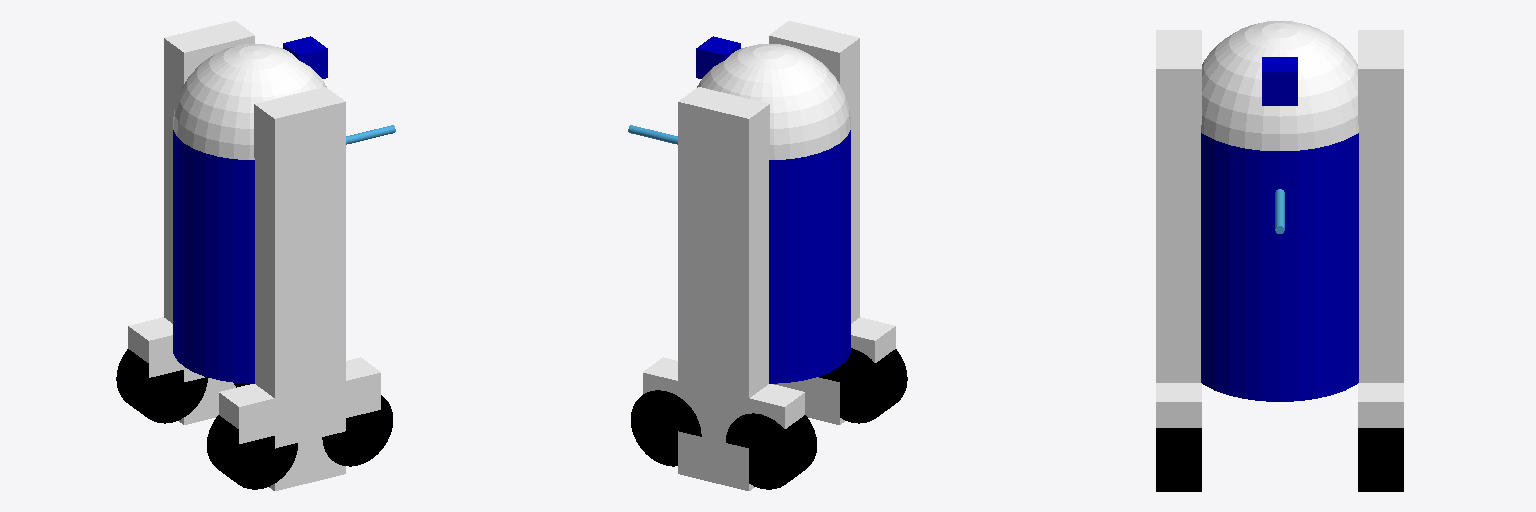
URDF robot description (moby):
<?xml version="1.0"?>
<robot name="moby">

<material name="blue">
    <color rgba="0 0 0.8 1"/>
  </material>
  <material name="black">
    <color rgba="0 0 0 1"/>
  </material>
  <material name="white">
    <color rgba="1 1 1 1"/>
  </material>

  <link name="base_link">
    <visual>
      <geometry>
        <cylinder length="0.6" radius="0.2"/>
      </geometry>
      <material name="blue"/>
    </visual>
    <collision>
      <geometry>
        <cylinder length="0.6" radius="0.2"/>
      </geometry>
    </collision>
    <inertial>
      <mass value="10"/>
      <inertia ixx="1.0" ixy="0.0" ixz="0.0" iyy="1.0" iyz="0.0" izz="1.0"/>
    </inertial>
  </link>

  <link name="right_leg">
    <visual>
      <geometry>
        <box size="1.0 0.1 0.2"/>
      </geometry>
      <origin rpy="0 1.57075 0" xyz="0 0 -0.3"/>
      <material name="white"/>
    </visual>
    <collision>
      <geometry>
        <box size="1.0 0.1 0.2"/>
      </geometry>
      <origin rpy="0 1.57075 0" xyz="0 0 -0.3"/>
    </collision>
    <inertial>
      <mass value="10"/>
      <inertia ixx="1.0" ixy="0.0" ixz="0.0" iyy="1.0" iyz="0.0" izz="1.0"/>
    </inertial>
  </link>
  <joint name="base_to_right_leg" type="fixed">
    <parent link="base_link"/>
    <child link="right_leg"/>
    <origin xyz="0 -0.22 0.25"/>
  </joint>

  <link name="right_base">
    <visual>
      <geometry>
        <box size="0.4 0.1 0.1"/>
      </geometry>
      <material name="white"/>
    </visual>
    <collision>
      <geometry>
        <box size="0.4 0.1 0.1"/>
      </geometry>
    </collision>
    <inertial>
      <mass value="10"/>
      <inertia ixx="1.0" ixy="0.0" ixz="0.0" iyy="1.0" iyz="0.0" izz="1.0"/>
    </inertial>
  </link>

  <joint name="right_base_joint" type="fixed">
    <parent link="right_leg"/>
    <child link="right_base"/>
    <origin xyz="0 0 -0.6"/>
  </joint>

  <link name="right_front_wheel">
    <visual>
      <origin rpy="1.57075 0 0" xyz="0 0 0"/>
      <geometry>
        <cylinder length="0.1" radius="0.1"/>
      </geometry>
      <material name="black"/>
    </visual>
    <collision>
      <origin rpy="1.57075 0 0" xyz="0 0 0"/>
      <geometry>
        <cylinder length="0.1" radius="0.1"/>
      </geometry>
    </collision>
    <inertial>
      <mass value="1"/>
      <inertia ixx="1.0" ixy="0.0" ixz="0.0" iyy="1.0" iyz="0.0" izz="1.0"/>
    </inertial>
  </link>

  <joint name="right_front_wheel_joint" type="continuous">
    <axis rpy="0 0 0" xyz="0 1 0"/>
    <parent link="right_base"/>
    <child link="right_front_wheel"/>
    <origin rpy="0 0 0" xyz="0.133333333333 0 -0.085"/>
  </joint>

  <link name="right_back_wheel">
    <visual>
      <origin rpy="1.57075 0 0" xyz="0 0 0"/>
      <geometry>
        <cylinder length="0.1" radius="0.1"/>
      </geometry>
      <material name="black"/>
    </visual>
    <collision>
      <origin rpy="1.57075 0 0" xyz="0 0 0"/>
      <geometry>
        <cylinder length="0.1" radius="0.01"/>
      </geometry>
    </collision>
    <inertial>
      <mass value="1"/>
      <inertia ixx="1.0" ixy="0.0" ixz="0.0" iyy="1.0" iyz="0.0" izz="1.0"/>
    </inertial>
  </link>

  <joint name="right_back_wheel_joint" type="continuous">
    <axis rpy="0 0 0" xyz="0 1 0"/>
    <parent link="right_base"/>
    <child link="right_back_wheel"/>
    <origin rpy="0 0 0" xyz="-0.133333333333 0 -0.085"/>
  </joint>

  <link name="left_leg">
    <visual>
      <geometry>
        <box size="1.0 0.1 0.2"/>
      </geometry>
      <origin rpy="0 1.57075 0" xyz="0 0 -0.3"/>
      <material name="white"/>
    </visual>
    <collision>
      <geometry>
        <box size="1.0 0.1 0.2"/>
      </geometry>
      <origin rpy="0 1.57075 0" xyz="0 0 -0.3"/>
    </collision>
    <inertial>
      <mass value="10"/>
      <inertia ixx="1.0" ixy="0.0" ixz="0.0" iyy="1.0" iyz="0.0" izz="1.0"/>
    </inertial>
  </link>

  <joint name="base_to_left_leg" type="fixed">
    <parent link="base_link"/>
    <child link="left_leg"/>
    <origin xyz="0 0.22 0.25"/>
  </joint>

  <link name="left_base">
    <visual>
      <geometry>
        <box size="0.4 0.1 0.1"/>
      </geometry>
      <material name="white"/>
    </visual>
    <collision>
      <geometry>
        <box size="0.4 0.1 0.1"/>
      </geometry>
    </collision>
    <inertial>
      <mass value="10"/>
      <inertia ixx="1.0" ixy="0.0" ixz="0.0" iyy="1.0" iyz="0.0" izz="1.0"/>
    </inertial>
  </link>

  <joint name="left_base_joint" type="fixed">
    <parent link="left_leg"/>
    <child link="left_base"/>
    <origin xyz="0 0 -0.6"/>
  </joint>

  <link name="left_front_wheel">
    <visual>
      <origin rpy="1.57075 0 0" xyz="0 0 0"/>
      <geometry>
        <cylinder length="0.1" radius="0.1"/>
      </geometry>
      <material name="black"/>
    </visual>
    <collision>
      <origin rpy="1.57075 0 0" xyz="0 0 0"/>
      <geometry>
        <cylinder length="0.1" radius="0.1"/>
      </geometry>
    </collision>
    <inertial>
      <mass value="1"/>
      <inertia ixx="1.0" ixy="0.0" ixz="0.0" iyy="1.0" iyz="0.0" izz="1.0"/>
    </inertial>
  </link>

  <joint name="left_front_wheel_joint" type="continuous">
    <axis rpy="0 0 0" xyz="0 1 0"/>
    <parent link="left_base"/>
    <child link="left_front_wheel"/>
    <origin rpy="0 0 0" xyz="0.133333333333 0 -0.085"/>
  </joint>

  <link name="left_back_wheel">
    <visual>
      <origin rpy="1.57075 0 0" xyz="0 0 0"/>
      <geometry>
        <cylinder length="0.1" radius="0.1"/>
      </geometry>
      <material name="black"/>
    </visual>
    <collision>
      <origin rpy="1.57075 0 0" xyz="0 0 0"/>
      <geometry>
        <cylinder length="0.1" radius="0.1"/>
      </geometry>
    </collision>
    <inertial>
      <mass value="1"/>
      <inertia ixx="1.0" ixy="0.0" ixz="0.0" iyy="1.0" iyz="0.0" izz="1.0"/>
    </inertial>
  </link>

  <joint name="left_back_wheel_joint" type="continuous">
    <axis rpy="0 0 0" xyz="0 1 0"/>
    <parent link="left_base"/>
    <child link="left_back_wheel"/>
    <origin rpy="0 0 0" xyz="-0.133333333333 0 -0.085"/>
  </joint>

  <joint name="gripper_extension" type="prismatic">
    <parent link="base_link"/>
    <child link="gripper_pole"/>
    <limit effort="1000.0" lower="-0.38" upper="0" velocity="0.5"/>
    <origin rpy="0 0 0" xyz="0.19 0 0.2"/>
  </joint>

  <link name="gripper_pole">
    <visual>
      <geometry>
        <cylinder length="0.2" radius="0.01"/>
      </geometry>
      <origin rpy="0 1.57075 0 " xyz="0.1 0 0"/>
    </visual>
    <collision>
      <geometry>
        <cylinder length="0.2" radius="0.01"/>
      </geometry>
      <origin rpy="0 1.57075 0 " xyz="0.1 0 0"/>
    </collision>
    <inertial>
      <mass value="0.05"/>
      <inertia ixx="1.0" ixy="0.0" ixz="0.0" iyy="1.0" iyz="0.0" izz="1.0"/>
    </inertial>
  </link>

  <joint name="left_gripper_joint" type="revolute">
    <axis xyz="0 0 1"/>
    <limit effort="1000.0" lower="0.0" upper="0.548" velocity="0.5"/>
    <origin rpy="0 0 0" xyz="0.2 0.01 0"/>
    <parent link="gripper_pole"/>
    <child link="left_gripper"/>
  </joint>

  <link name="left_gripper">
    <visual>
      <origin rpy="0.0 0 0" xyz="0 0 0"/>
      <geometry>
        <mesh filename="package://urdf_tutorial/meshes/l_finger.dae"/>
      </geometry>
    </visual>
    <collision>
      <geometry>
        <mesh filename="package://urdf_tutorial/meshes/l_finger.dae"/>
      </geometry>
      <origin rpy="0.0 0 0" xyz="0 0 0"/>
    </collision>
    <inertial>
      <mass value="0.05"/>
      <inertia ixx="1.0" ixy="0.0" ixz="0.0" iyy="1.0" iyz="0.0" izz="1.0"/>
    </inertial>
  </link>

  <joint name="left_tip_joint" type="fixed">
    <parent link="left_gripper"/>
    <child link="left_tip"/>
  </joint>

  <link name="left_tip">
    <visual>
      <origin rpy="0.0 0 0" xyz="0.09137 0.00495 0"/>
      <geometry>
        <mesh filename="package://urdf_tutorial/meshes/l_finger_tip.dae"/>
      </geometry>
    </visual>
    <collision>
      <geometry>
        <mesh filename="package://urdf_tutorial/meshes/l_finger_tip.dae"/>
      </geometry>
      <origin rpy="0.0 0 0" xyz="0.09137 0.00495 0"/>
    </collision>
    <inertial>
      <mass value="0.05"/>
      <inertia ixx="1.0" ixy="0.0" ixz="0.0" iyy="1.0" iyz="0.0" izz="1.0"/>
    </inertial>
  </link>

  <joint name="right_gripper_joint" type="revolute">
    <axis xyz="0 0 -1"/>
    <limit effort="1000.0" lower="0.0" upper="0.548" velocity="0.5"/>
    <origin rpy="0 0 0" xyz="0.2 -0.01 0"/>
    <parent link="gripper_pole"/>
    <child link="right_gripper"/>
  </joint>

  <link name="right_gripper">
    <visual>
      <origin rpy="-3.1415 0 0" xyz="0 0 0"/>
      <geometry>
        <mesh filename="package://urdf_tutorial/meshes/l_finger.dae"/>
      </geometry>
    </visual>
    <collision>
      <geometry>
        <mesh filename="package://urdf_tutorial/meshes/l_finger.dae"/>
      </geometry>
      <origin rpy="-3.1415 0 0" xyz="0 0 0"/>
    </collision>
    <inertial>
      <mass value="0.05"/>
      <inertia ixx="1.0" ixy="0.0" ixz="0.0" iyy="1.0" iyz="0.0" izz="1.0"/>
    </inertial>
  </link>

  <joint name="right_tip_joint" type="fixed">
    <parent link="right_gripper"/>
    <child link="right_tip"/>
  </joint>

  <link name="right_tip">
    <visual>
      <origin rpy="-3.1415 0 0" xyz="0.09137 0.00495 0"/>
      <geometry>
        <mesh filename="package://urdf_tutorial/meshes/l_finger_tip.dae"/>
      </geometry>
    </visual>
    <collision>
      <geometry>
        <mesh filename="package://urdf_tutorial/meshes/l_finger_tip.dae"/>
      </geometry>
      <origin rpy="-3.1415 0 0" xyz="0.09137 0.00495 0"/>
    </collision>
    <inertial>
      <mass value="0.05"/>
      <inertia ixx="1.0" ixy="0.0" ixz="0.0" iyy="1.0" iyz="0.0" izz="1.0"/>
    </inertial>
  </link>

  <link name="head">
    <visual>
      <geometry>
        <sphere radius="0.2"/>
      </geometry>
      <material name="white"/>
    </visual>
    <collision>
      <geometry>
        <sphere radius="0.2"/>
      </geometry>
    </collision>
    <inertial>
      <mass value="2"/>
      <inertia ixx="1.0" ixy="0.0" ixz="0.0" iyy="1.0" iyz="0.0" izz="1.0"/>
    </inertial>
  </link>

  <joint name="head_swivel" type="fixed">
    <parent link="base_link"/>
    <child link="head"/>
    <axis xyz="0 0 1"/>
    <origin xyz="0 0 0.3"/>
  </joint>

  <link name="box">
    <visual>
      <geometry>
        <box size="0.08 0.08 0.08"/>
      </geometry>
      <material name="blue"/>
      <origin xyz="-0.04 0 0"/>
    </visual>
    <collision>
      <geometry>
        <box size="0.08 0.08 0.08"/>
      </geometry>
    </collision>
    <inertial>
      <mass value="1"/>
      <inertia ixx="1.0" ixy="0.0" ixz="0.0" iyy="1.0" iyz="0.0" izz="1.0"/>
    </inertial>
  </link>

  <joint name="tobox" type="fixed">
    <parent link="head"/>
    <child link="box"/>
    <origin xyz="0.1814 0 0.1414"/>
  </joint>

  <gazebo reference="base_link">
    <material>Gazebo/Blue </material>
  </gazebo>

  <gazebo reference="right_leg">
    <material>Gazebo/White  </material>
  </gazebo>
  <gazebo reference="right_base">
    <material>Gazebo/Red  </material>
  </gazebo>
  <gazebo reference="right_front_wheel">
    <material>Gazebo/FlatBlack  </material>
    <mu1 value = "0.5"/>
    <mu2 value = "0.45"/>
  
  </gazebo>
  <gazebo reference="right_back_wheel">
    <material>Gazebo/FlatBlack  </material>
    <mu1 value = "0.5"/>
    <mu2 value = "0.45"/>
    
  </gazebo>

  <gazebo reference="left_leg">
    <material>Gazebo/White </material>
  </gazebo>
  <gazebo reference="left_base">
    <material>Gazebo/Red  </material>
  </gazebo>
  <gazebo reference="left_front_wheel">
    <material>Gazebo/FlatBlack  </material>
    <mu1 value = "0.5"/>
    <mu2 value = "0.45"/>
    
  </gazebo>
  <gazebo reference="left_back_wheel">
    <material>Gazebo/FlatBlack  </material>
    <mu1 value = "0.5"/>
    <mu2 value = "0.45"/>
    
  </gazebo>

  <gazebo reference="gripper_pole">
    <material>Gazebo/FlatBlack  </material>
  </gazebo>
  <gazebo reference="left_gripper">
    <material>Gazebo/Green </material>
  </gazebo>
  <gazebo reference="left_tip">
    <material>Gazebo/Green  </material>
  </gazebo>

   <gazebo reference="right_gripper">
    <material>Gazebo/Green  </material>
  </gazebo>
  <gazebo reference="right_tip">
    <material>Gazebo/Green   </material>
  </gazebo>

  <gazebo reference="head">
    <material>Gazebo/White   </material>
  </gazebo>
  <gazebo reference="box">
    <material> Gazebo/Blue</material>
  </gazebo>


    <gazebo>
    
    <plugin filename="libgazebo_ros_diff_drive.so" name="differential_drive_controller">
        <alwaysOn>true</alwaysOn>
        <updateRate>20</updateRate>
        <leftJoint>left_back_wheel_joint</leftJoint>
        <rightJoint>right_back_wheel_joint</rightJoint>
        <wheelSeparation>0.44</wheelSeparation>
        <wheelDiameter>0.2</wheelDiameter>
        <torque>10</torque>
        <commandTopic>cmd_vel</commandTopic>
        <odometryTopic>odom</odometryTopic>
        <odometryFrame>odom</odometryFrame>
        <robotBaseFrame>base_link</robotBaseFrame>
    </plugin>
    </gazebo>

  <gazebo reference="box">
        <sensor type="ray" name="moby_laser_sensor">
        <pose>0 0 0 0 0 0</pose>
        <visualize>true</visualize>
        <update_rate>20</update_rate>
        <ray>
         <scan>
            <horizontal>
                <samples>720</samples>
                <resolution>1</resolution>
                <min_angle>-3.14</min_angle>
                <max_angle>3.14</max_angle>
            </horizontal>
        </scan>
        <range>
             <min>0.2</min>
             <max>10.0</max>
             <resolution>0.01</resolution>
        </range>
        <noise>
              <type>gaussian</type>
              <mean>0.0</mean>
              <stddev>0.01</stddev>
        </noise>
        </ray>
        <plugin name="gazebo_ros_head_hokuyo_controller" filename="libgazebo_ros_laser.so">
        <topicName>/moby/laser/scan</topicName>
        <frameName>box</frameName>
      </plugin>
    </sensor>
  </gazebo>

</robot>

--- Facts derived from the render (not from the file) ---
3 views of the same robot in one strip: view 1: azimuth 30°, elevation 25°; view 2: azimuth 150°, elevation 25°; view 3: azimuth 270°, elevation 25° (orthographic).
Model moby with 16 links and 15 joints (2 revolute, 4 continuous, 1 prismatic, 8 fixed), rooted at base_link, posed every joint at zero.
Visible links, largest first — view 1: right_leg, base_link, head, left_leg, right_base, right_back_wheel, left_back_wheel, right_front_wheel, left_base, box; view 2: left_leg, base_link, head, right_leg, left_back_wheel, right_back_wheel, left_front_wheel, left_base, right_base, box; view 3: base_link, right_leg, left_leg, head, right_front_wheel, left_front_wheel, right_base, left_base, box.
Link boxes in pixels (left/top/right/bottom): right_leg: left=254, top=87, right=345, bottom=490; base_link: left=173, top=130, right=254, bottom=383; head: left=173, top=44, right=326, bottom=159; left_leg: left=164, top=21, right=254, bottom=424; right_base: left=219, top=357, right=380, bottom=443; right_back_wheel: left=207, top=415, right=297, bottom=489; left_back_wheel: left=116, top=349, right=207, bottom=423; right_front_wheel: left=322, top=395, right=392, bottom=466; left_base: left=128, top=317, right=183, bottom=377; box: left=283, top=36, right=327, bottom=78; left_leg: left=678, top=87, right=769, bottom=490; base_link: left=769, top=130, right=850, bottom=383; head: left=697, top=44, right=850, bottom=159; right_leg: left=769, top=21, right=859, bottom=424; left_back_wheel: left=726, top=413, right=816, bottom=489; right_back_wheel: left=819, top=348, right=907, bottom=423; left_front_wheel: left=631, top=390, right=701, bottom=466; left_base: left=643, top=357, right=804, bottom=428; right_base: left=851, top=317, right=895, bottom=362; box: left=696, top=36, right=740, bottom=78; base_link: left=1201, top=133, right=1358, bottom=401; right_leg: left=1156, top=30, right=1201, bottom=382; left_leg: left=1358, top=30, right=1403, bottom=382; head: left=1201, top=21, right=1358, bottom=150; right_front_wheel: left=1156, top=428, right=1201, bottom=491; left_front_wheel: left=1358, top=428, right=1403, bottom=491; right_base: left=1156, top=383, right=1201, bottom=427; left_base: left=1358, top=383, right=1403, bottom=427; box: left=1262, top=57, right=1297, bottom=105.
Size in the robot's own frame: 0.6233 by 0.54 by 1.05 metres.
Meshes: 2 distinct files referenced, 0 mesh visuals loaded (none loaded); not drawn: 4 (reference not matched to a file when rendering).
